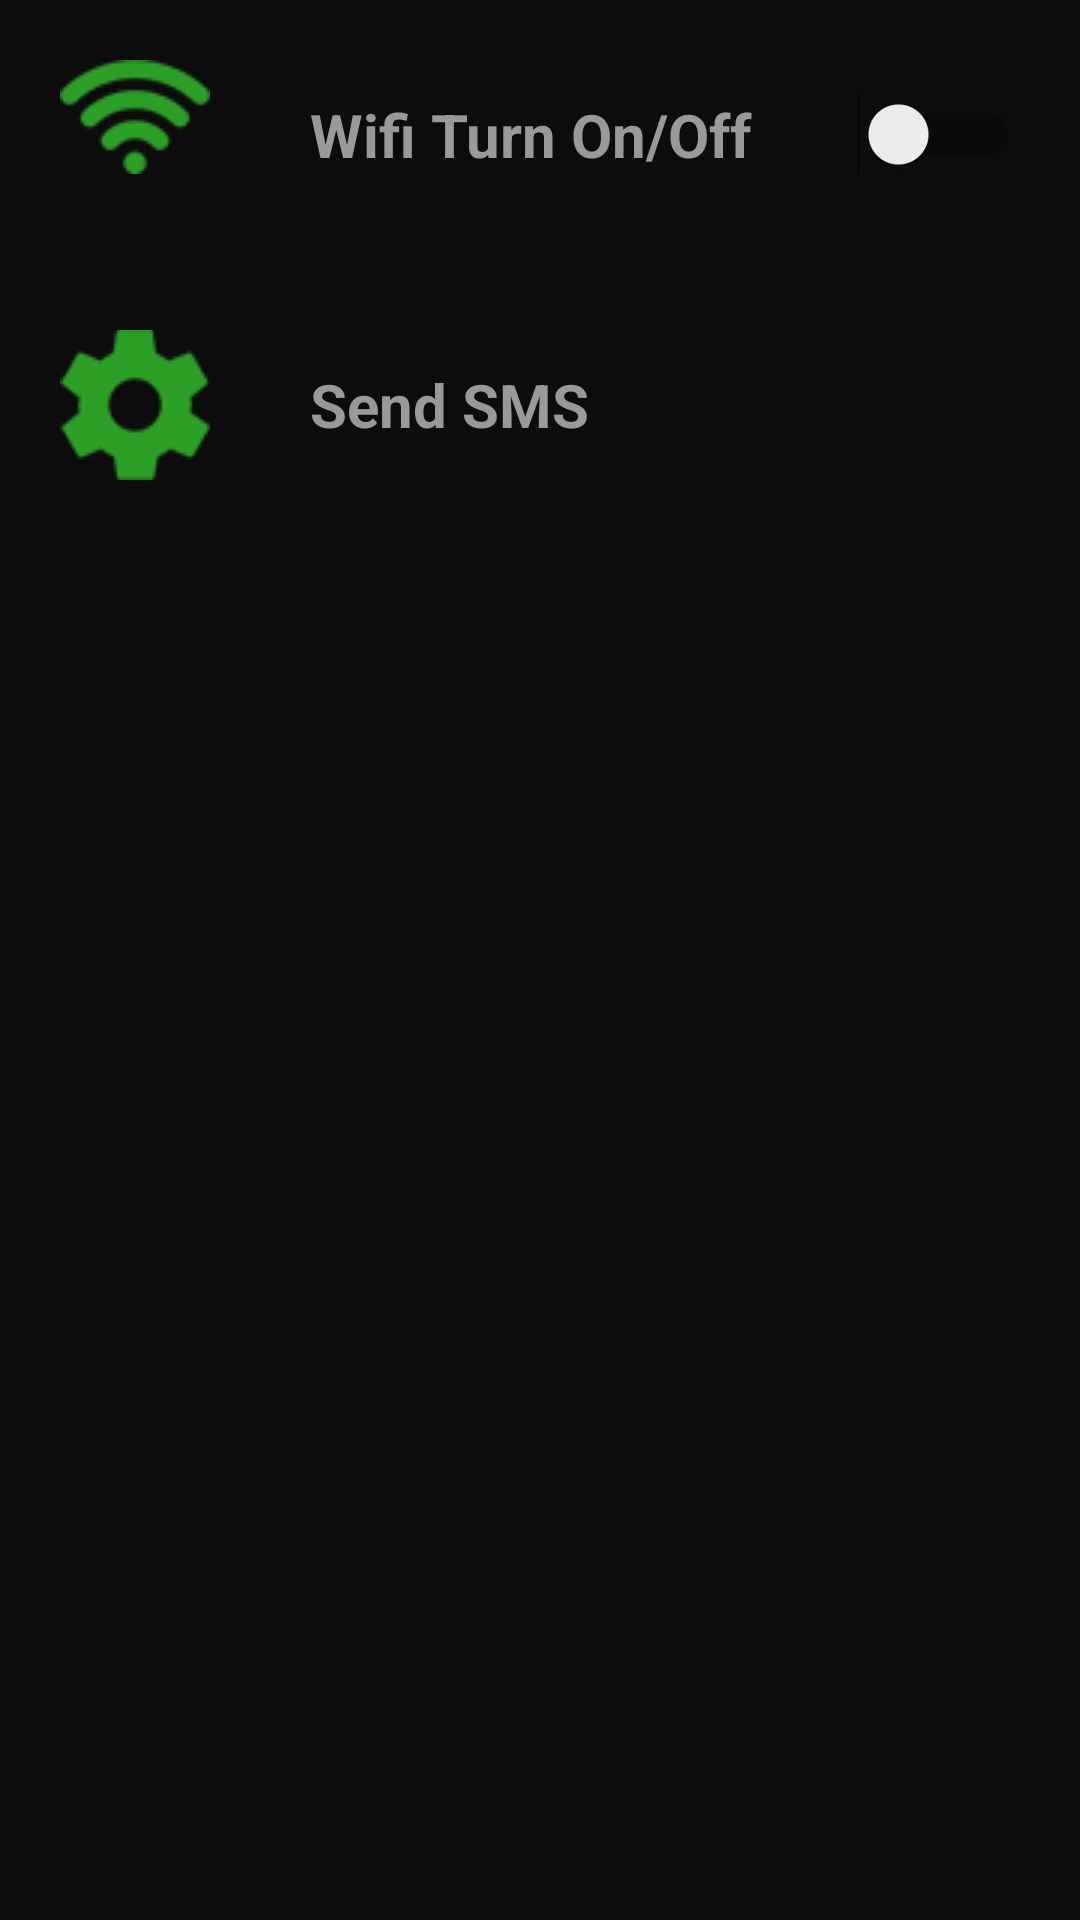

Locate icon controls on the screen. Image size 1080*1920, boxes as (x1, y1, x2, y2).
setting: (60, 330, 210, 480)
